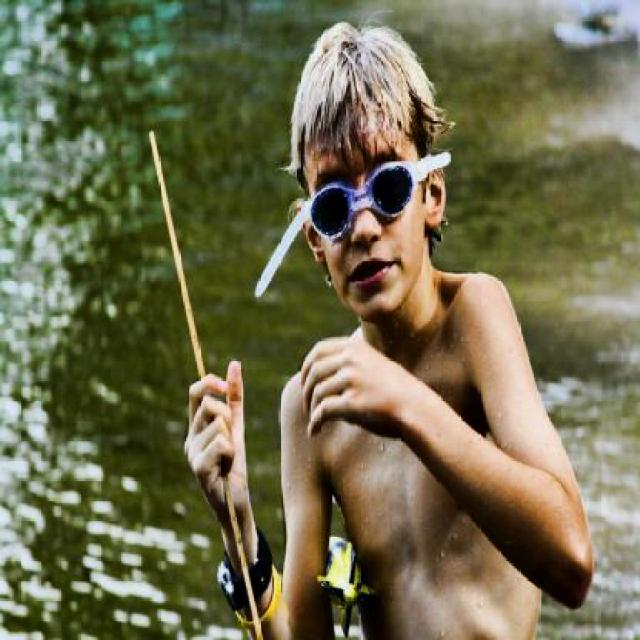face_nomask: (313, 165, 419, 302)
glasses: (292, 160, 440, 246)
hand_noglove: (179, 353, 253, 513), (297, 329, 388, 433)
head_nohelmet: (280, 21, 442, 142)
person: (172, 20, 603, 640)
